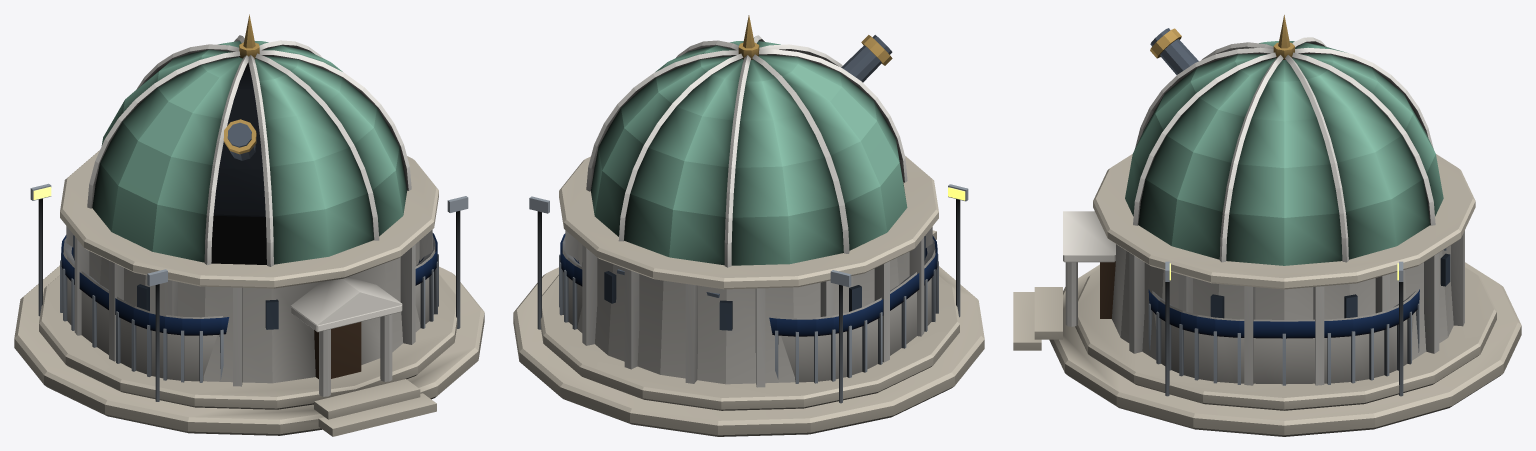
File: world.glb
3 views of the same model, side by side, from view 1: azimuth 30°, elevation 25°; view 2: azimuth 150°, elevation 25°; view 3: azimuth 270°, elevation 25° (orthographic).
Parts seen in each view (by area): view 1: observatory, stadium; view 2: observatory, stadium; view 3: observatory, stadium.
Part boxes in pixels (box(x1,y1,x2,y2)): observatory: box(14, 14, 484, 436); stadium: box(30, 183, 468, 401); observatory: box(513, 15, 984, 436); stadium: box(529, 184, 968, 403); observatory: box(1013, 15, 1521, 436); stadium: box(1148, 248, 1446, 396).
Size of the model in its own units: 2.68 by 2.26 by 2.87.
